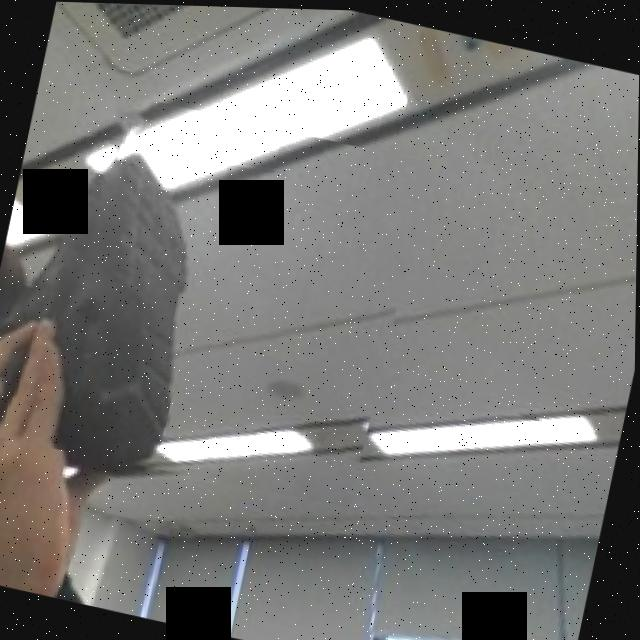shoe: (0, 74, 433, 518)
